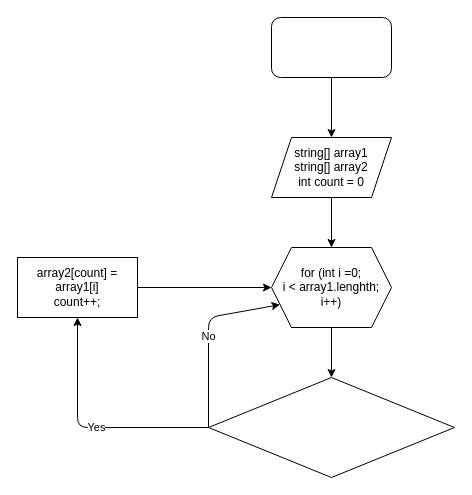
Some shapes in this 472 by 495 pixel diagram are drawn without their labels. Here are the shapes that lost their labels. From the top down, the centre of each, then its label:
At point (331, 47): "SecondArray".
At point (331, 427): "if (array1[i].lenghth <= 3)".
